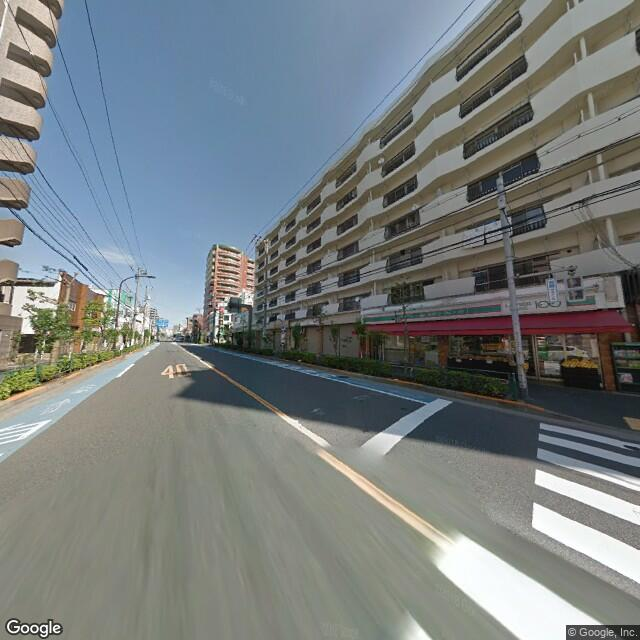lawson: (364, 286, 595, 326)
